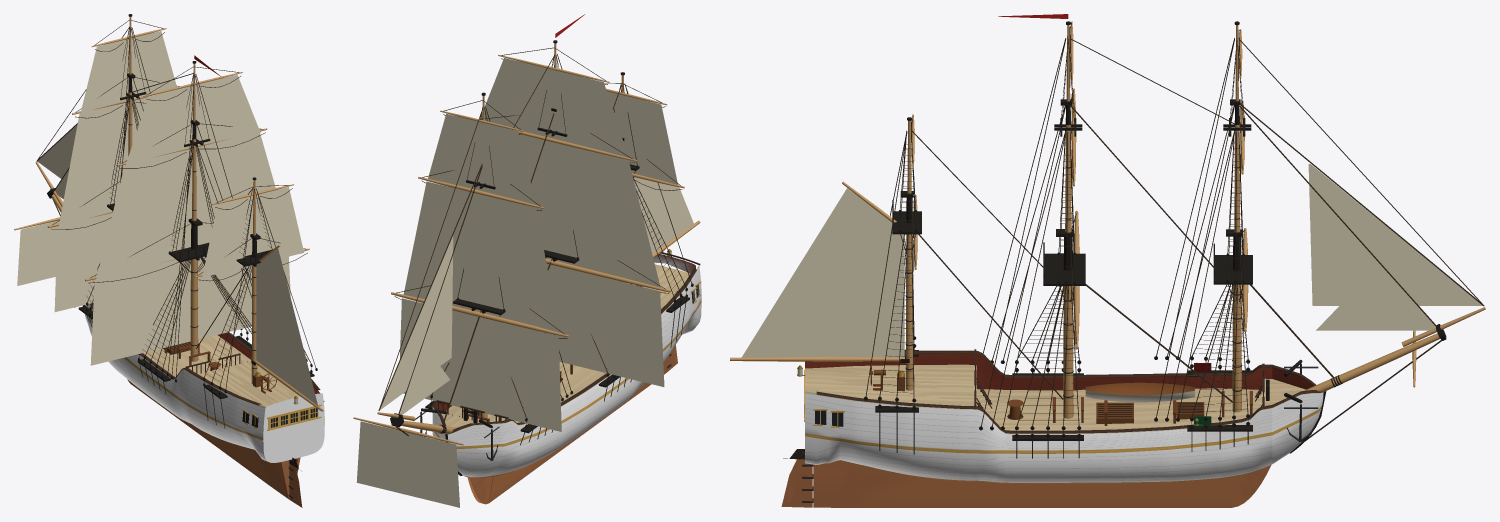
File: tall-ship.glb
3 renders of one model, left to right at view 1: azimuth 30°, elevation 25°; view 2: azimuth 150°, elevation 25°; view 3: azimuth 270°, elevation 25°, orthographic. The views are drawn at different scales.
Visible parts, largest first — view 1: hull, main-topsail, main-course, main-topgallant, fore-topsail, mizzen-topsail, mainmast, sail, fore-topgallant, fore-course, mast, spritsail (+8 smaller); view 2: hull, fore-topsail, main-topsail, fore-course, main-course, main-topgallant, spritsail, fore-topgallant, headsail-jib, mizzen-topsail, sail, headsail-staysail (+9 smaller); view 3: hull, sail, headsail-jib, daggerboard, mainmast, foremast, headsail-staysail, mast, deadwood, rudder, main-yards, boom.
Boxes of the visible parts, x1,y1,x2,y2 form: hull: [14, 27, 324, 462]; main-topsail: [95, 133, 275, 280]; main-course: [90, 256, 290, 365]; main-topgallant: [125, 74, 260, 165]; fore-topsail: [58, 98, 147, 227]; mizzen-topsail: [202, 187, 303, 277]; mainmast: [142, 61, 251, 379]; sail: [256, 248, 317, 405]; fore-topgallant: [80, 31, 176, 114]; fore-course: [54, 214, 111, 311]; mast: [204, 177, 315, 389]; spritsail: [17, 220, 59, 285]; hull: [353, 55, 701, 477]; fore-topsail: [403, 181, 559, 332]; main-topsail: [519, 134, 660, 287]; fore-course: [400, 298, 561, 431]; main-course: [530, 264, 664, 386]; main-topgallant: [480, 58, 628, 157]; spritsail: [356, 421, 459, 507]; fore-topgallant: [428, 113, 536, 204]; headsail-jib: [380, 236, 453, 409]; mizzen-topsail: [607, 91, 677, 184]; sail: [634, 177, 693, 253]; headsail-staysail: [399, 343, 450, 414]; hull: [804, 38, 1485, 483]; sail: [741, 188, 904, 357]; headsail-jib: [1308, 164, 1482, 305]; daggerboard: [856, 464, 1230, 507]; mainmast: [981, 21, 1085, 426]; foremast: [1156, 21, 1252, 417]; headsail-staysail: [1316, 264, 1435, 330]; mast: [865, 117, 921, 398]; deadwood: [813, 460, 1271, 507]; rudder: [781, 449, 813, 507]; main-yards: [1069, 21, 1079, 350]; boom: [730, 355, 909, 362].
Bounding box in the file's own units: 20.67 × 34.82 × 48.44.
